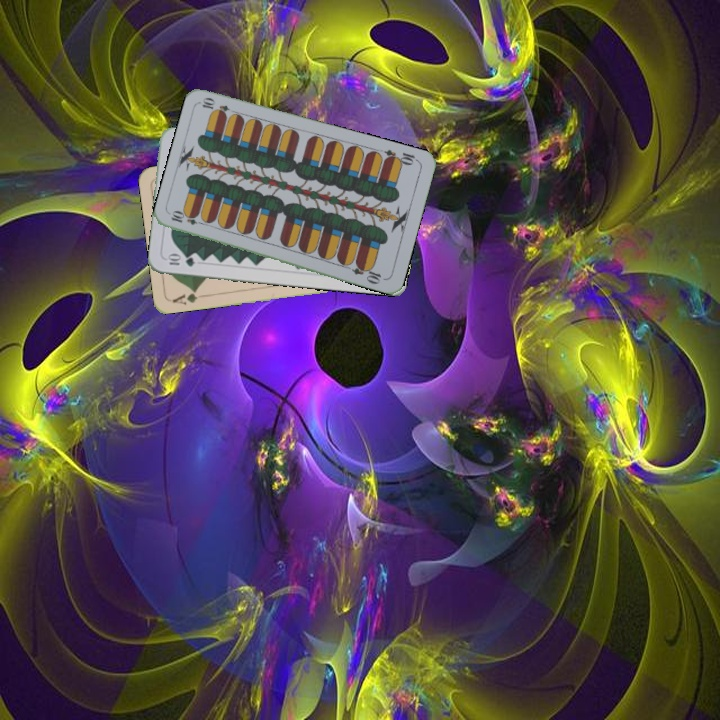E10: (380, 145, 421, 168), (167, 209, 208, 228)
G10: (162, 251, 198, 269)
GA: (168, 286, 208, 307)
